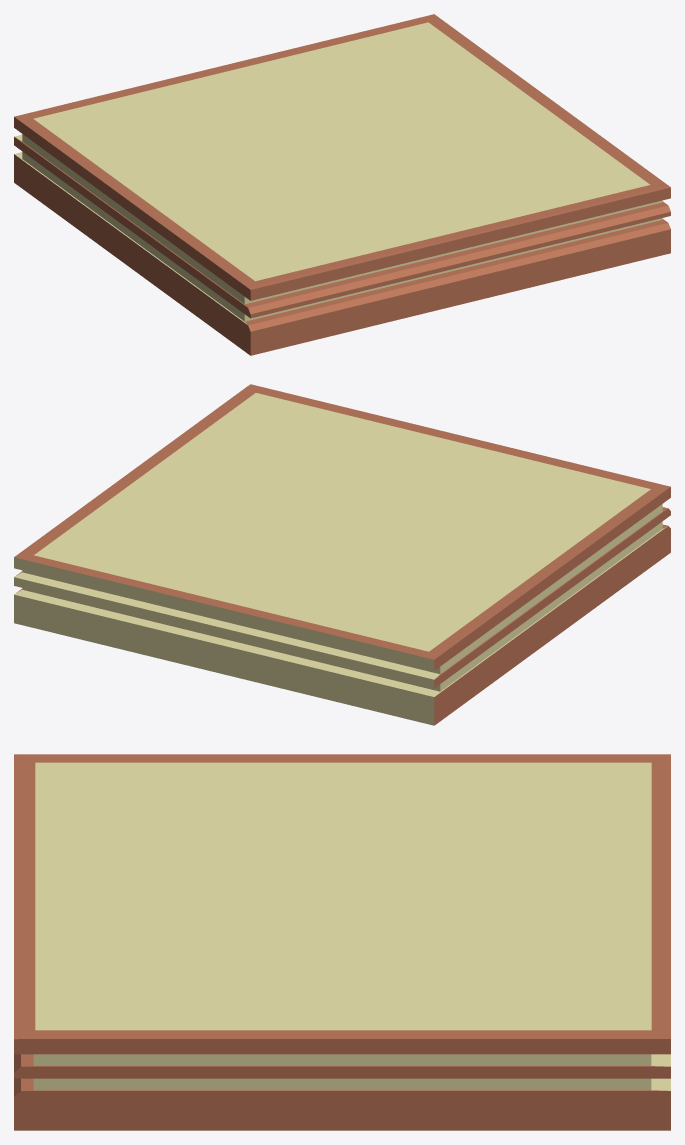
Rendered from Room5Floor.fbx.
3 renders of one model, top to bottom at view 1: azimuth 30°, elevation 25°; view 2: azimuth 150°, elevation 25°; view 3: azimuth 270°, elevation 25°, orthographic. The views are drawn at different scales.
Parts seen in each view (by area): view 1: Cube; view 2: Cube; view 3: Cube.
Boxes of the visible parts, x1=… form: Cube: x1=14, y1=14, x2=670, y2=355; Cube: x1=14, y1=384, x2=670, y2=725; Cube: x1=14, y1=754, x2=670, y2=1130.
Size of the model in its own units: 10000 by 1500 by 9750.
